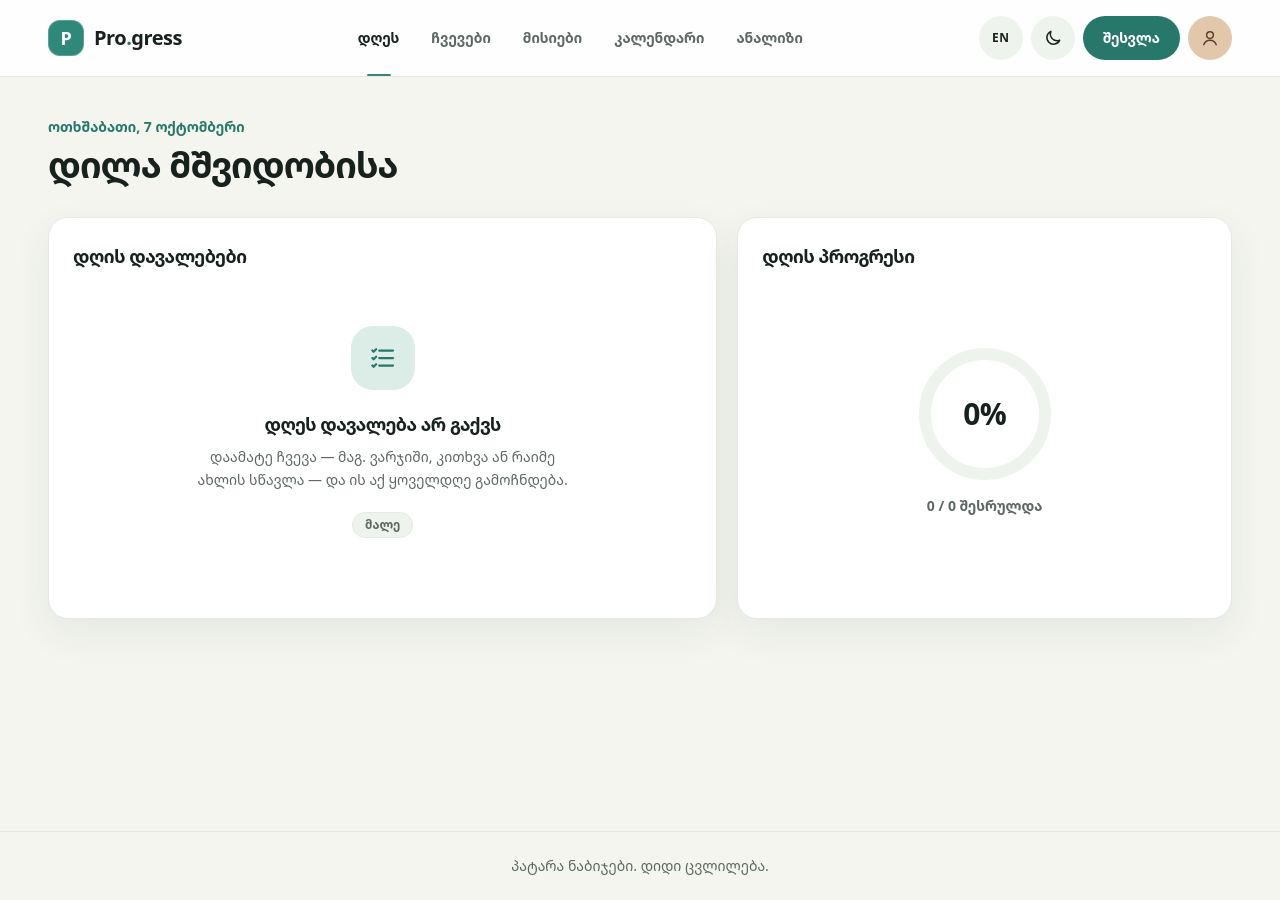
it: theme (TDD §12) › header button switches to dark and remembers it
Click the button named "მუქ თემაზე გადართვა" at (1053, 38), box [1031, 16, 1075, 60]
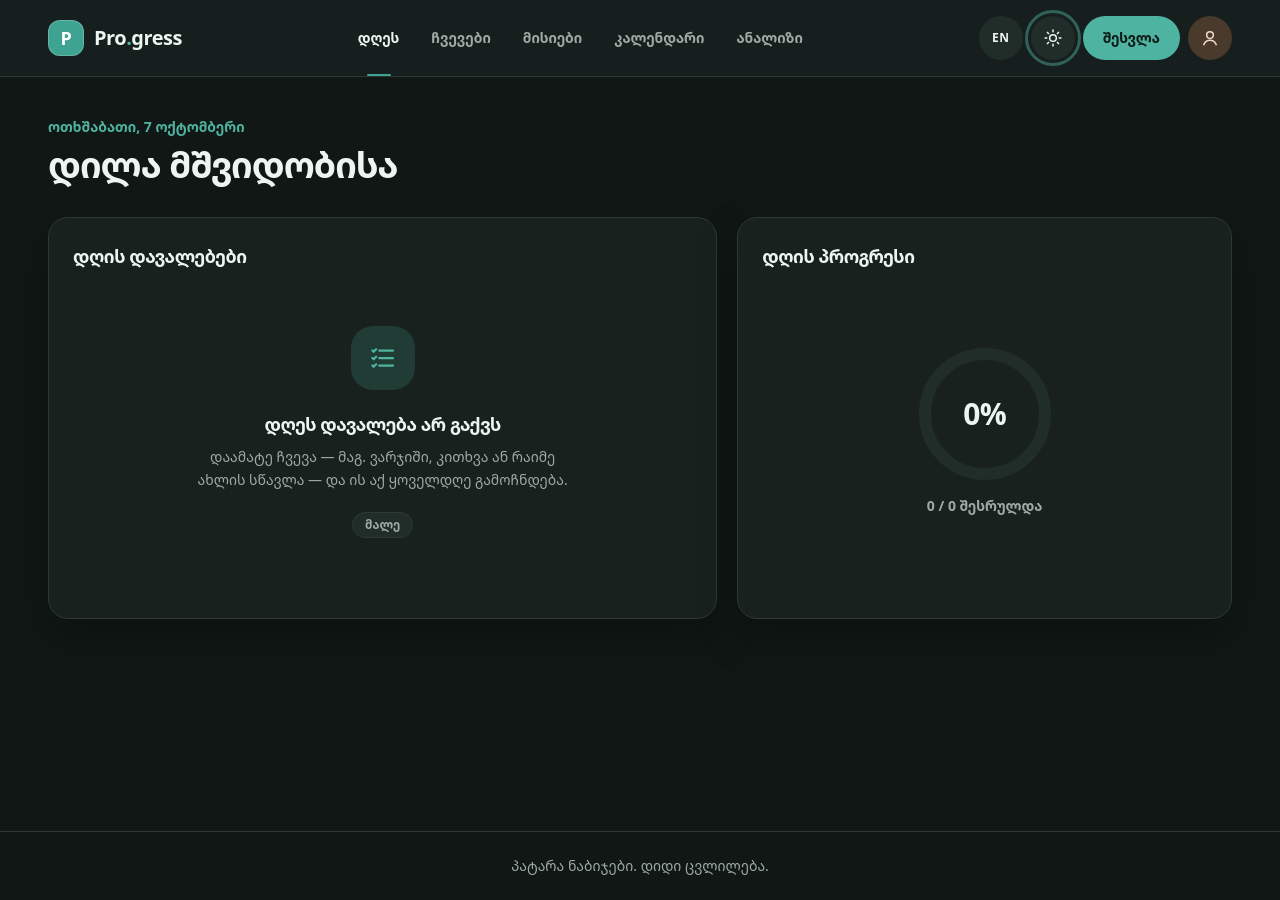
Check: the button named "ღია თემაზე გადართვა" is shown, box [1031, 16, 1075, 60]
